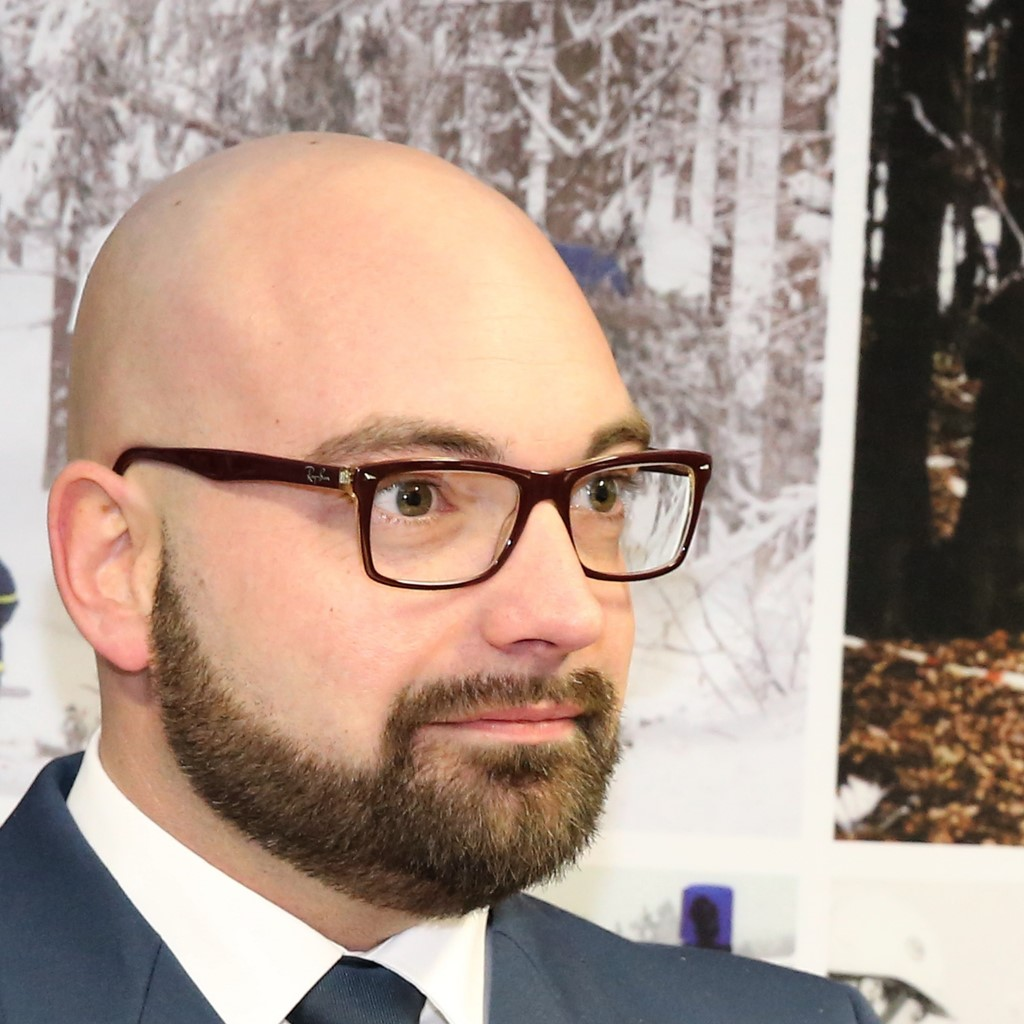sin_mascara: (84, 103, 652, 916)
